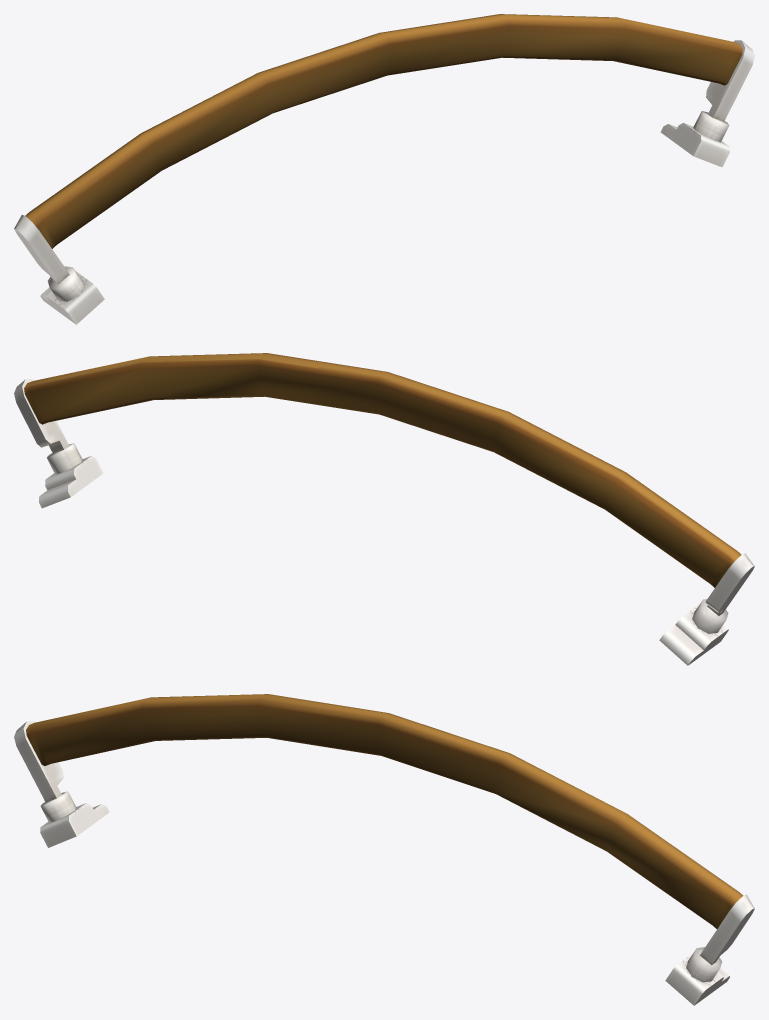
Rendered from BentBar.fbx.
3 views of the same model, one above another, from view 1: azimuth 30°, elevation 25°; view 2: azimuth 150°, elevation 25°; view 3: azimuth 330°, elevation 25° (orthographic).
Parts seen in each view (by area): view 1: HandBar_A.002; view 2: HandBar_A.002; view 3: HandBar_A.002.
Boxes of the visible parts, left/top/right/bottom form: HandBar_A.002: left=14, top=14, right=754, bottom=324; HandBar_A.002: left=14, top=353, right=754, bottom=665; HandBar_A.002: left=14, top=694, right=754, bottom=1005.
Size of the model in its own units: 93.65 by 24.51 by 7.26.
